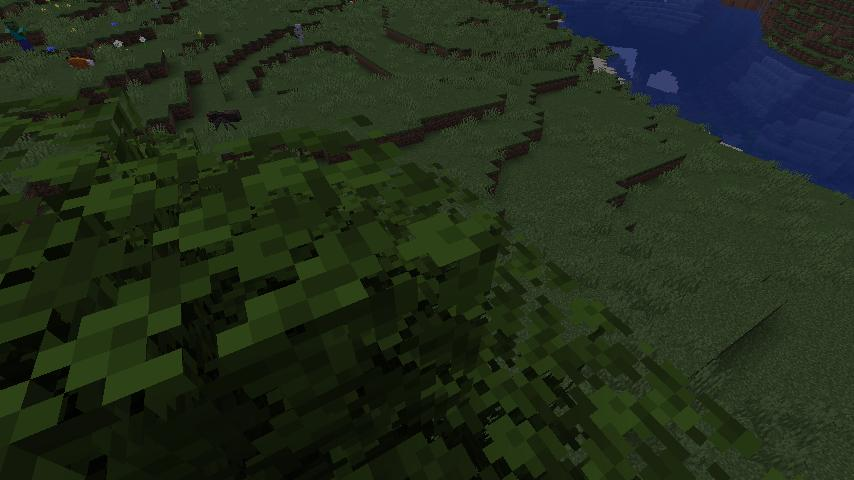fox: (62, 54, 102, 75)
skeleton: (288, 20, 310, 47), (149, 0, 163, 11)
spider: (200, 106, 250, 136)
zombie: (0, 18, 37, 58)
